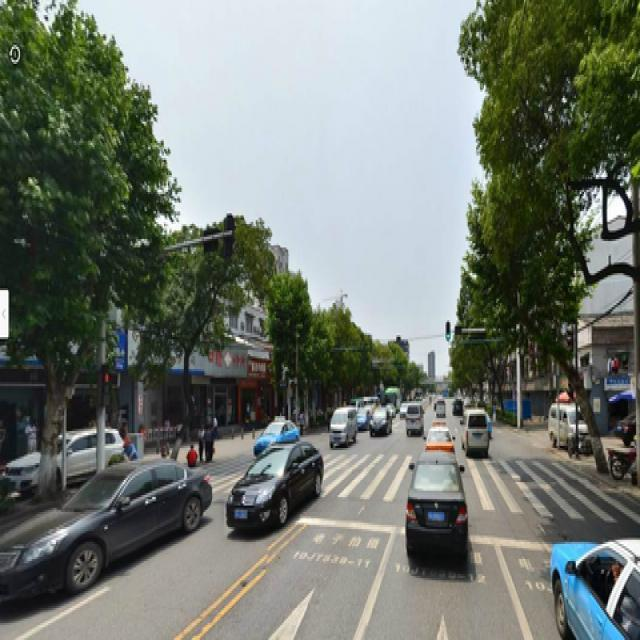meta: (1, 15, 124, 459)
